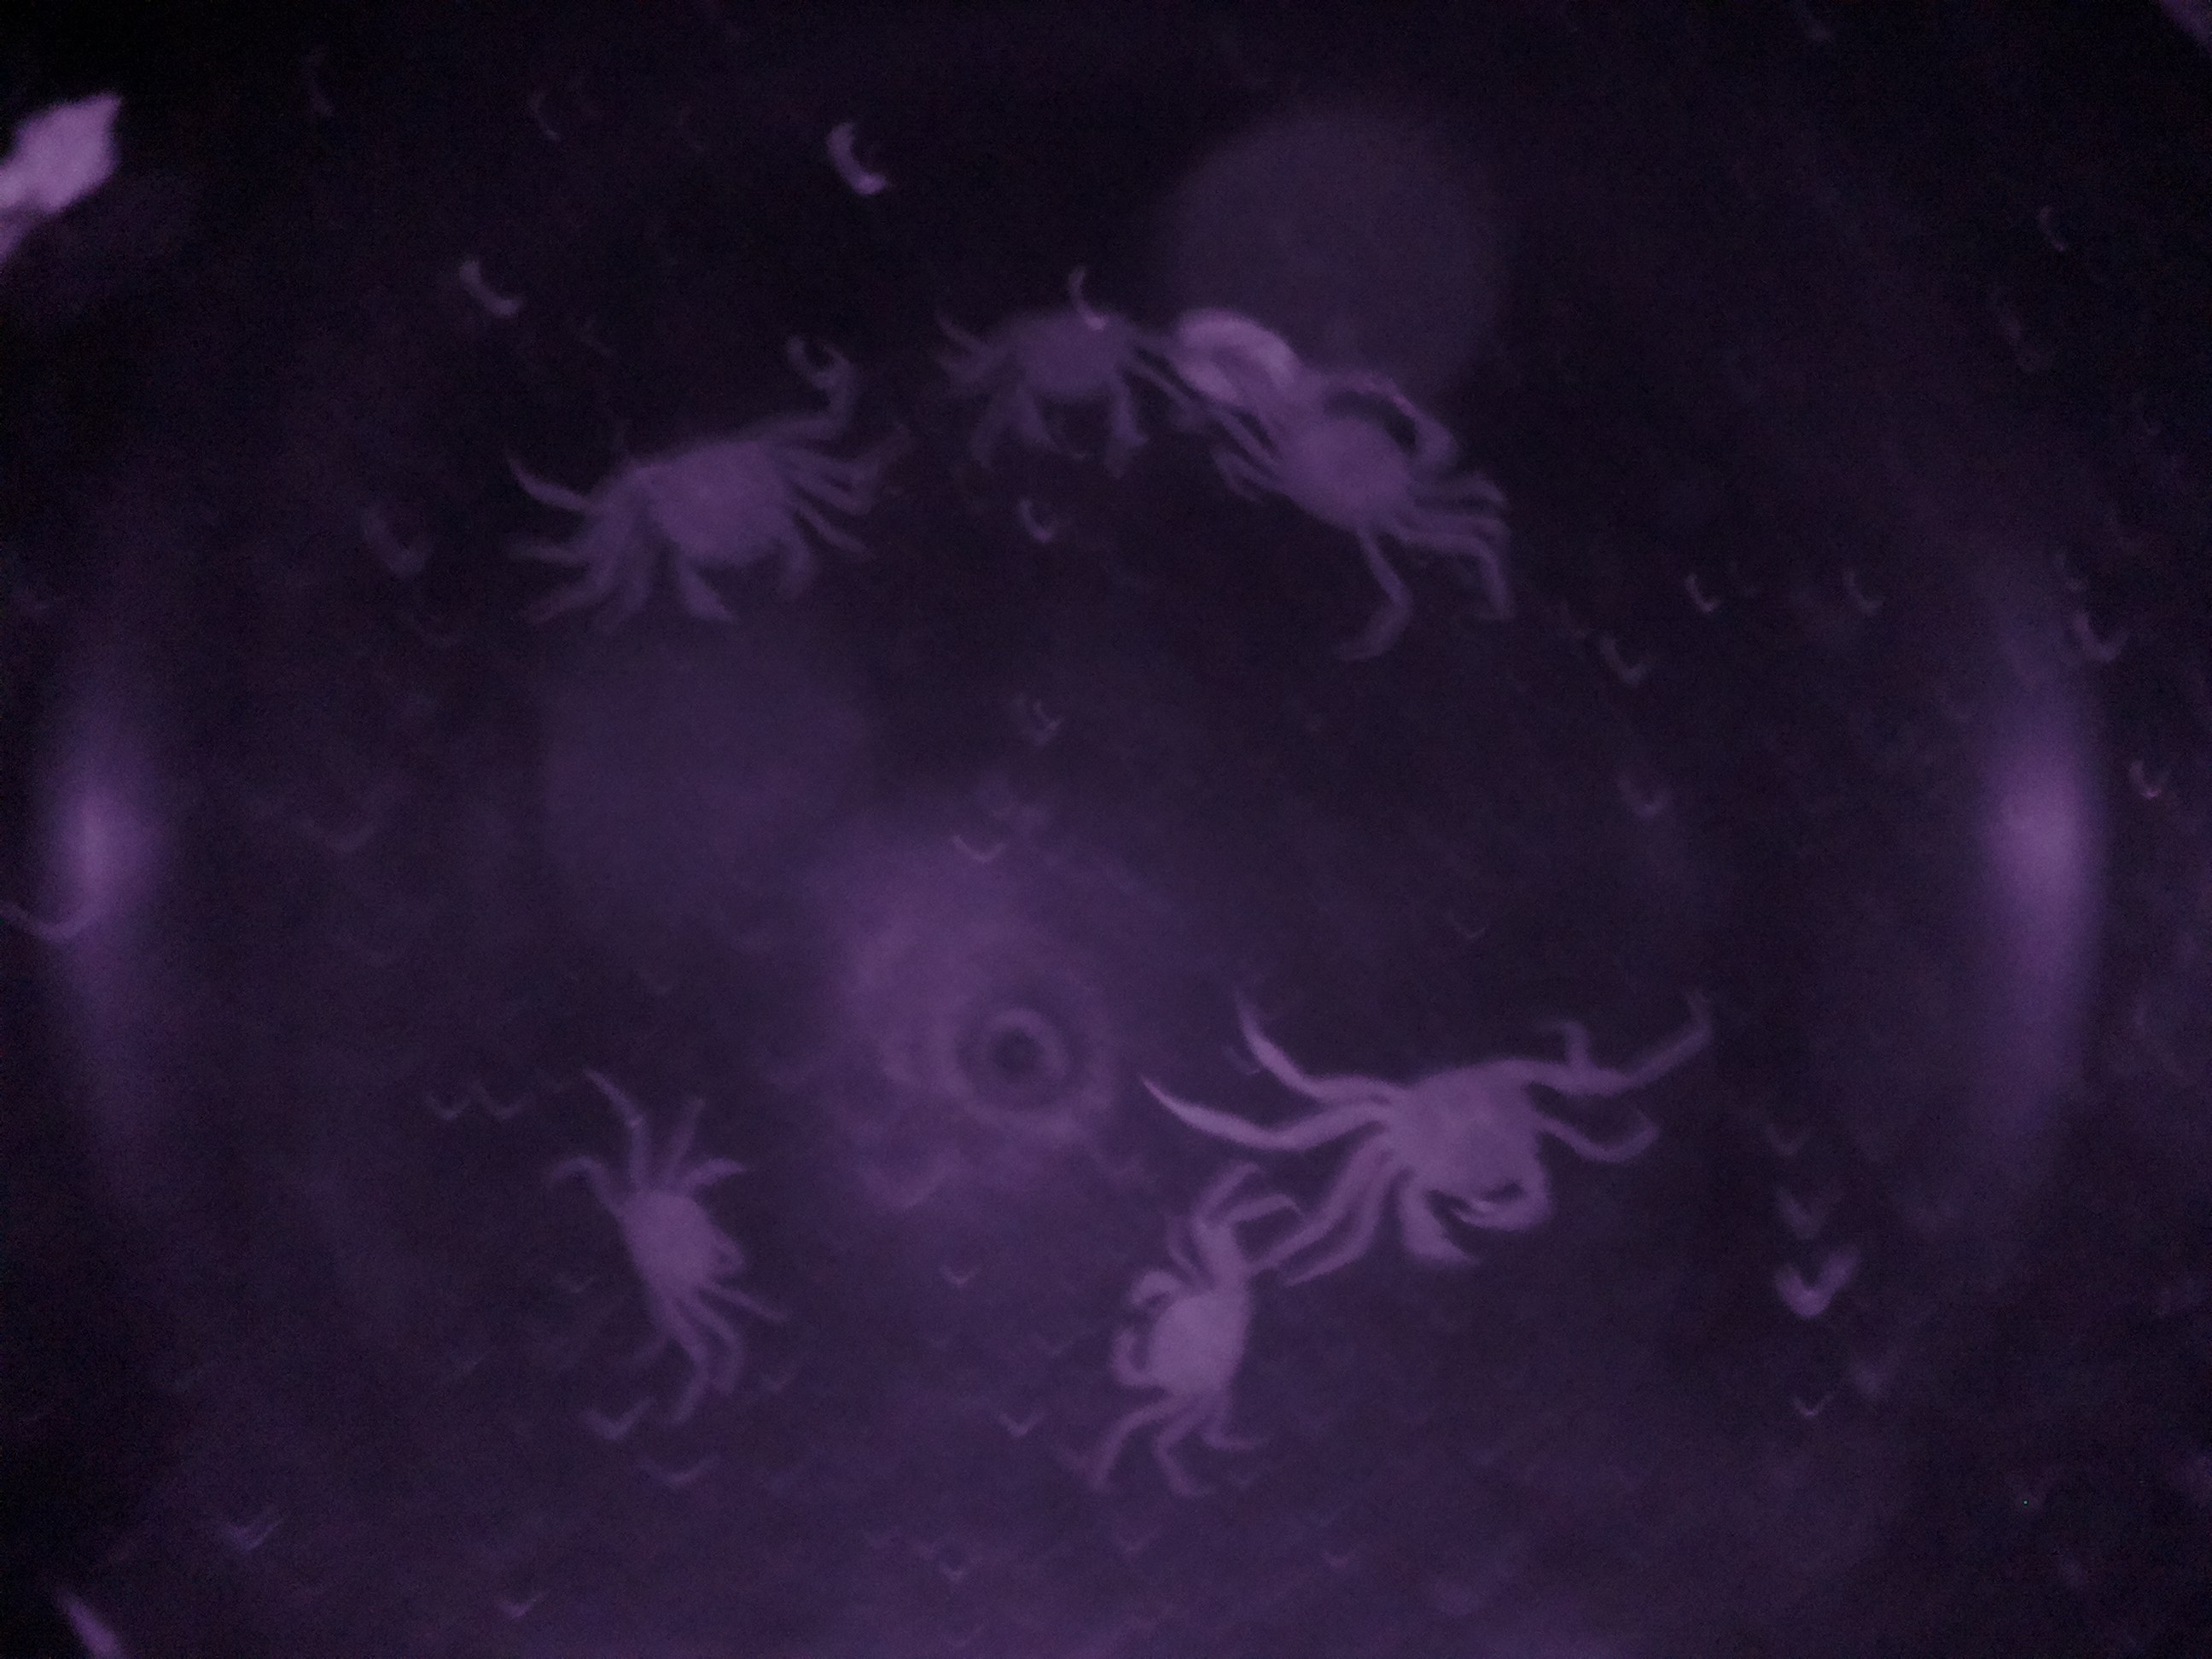Crab: (1306, 1037, 1611, 1274), (1106, 1201, 1285, 1445)
